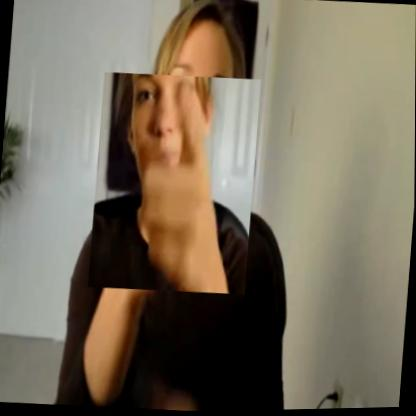NiceToMeetYou: (89, 70, 261, 298)
